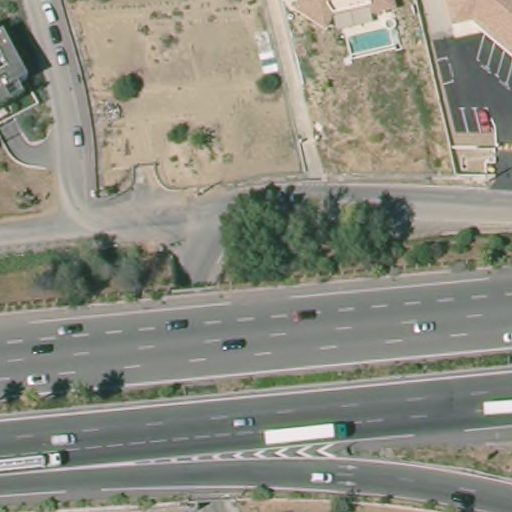pool: (337, 19, 404, 58)
